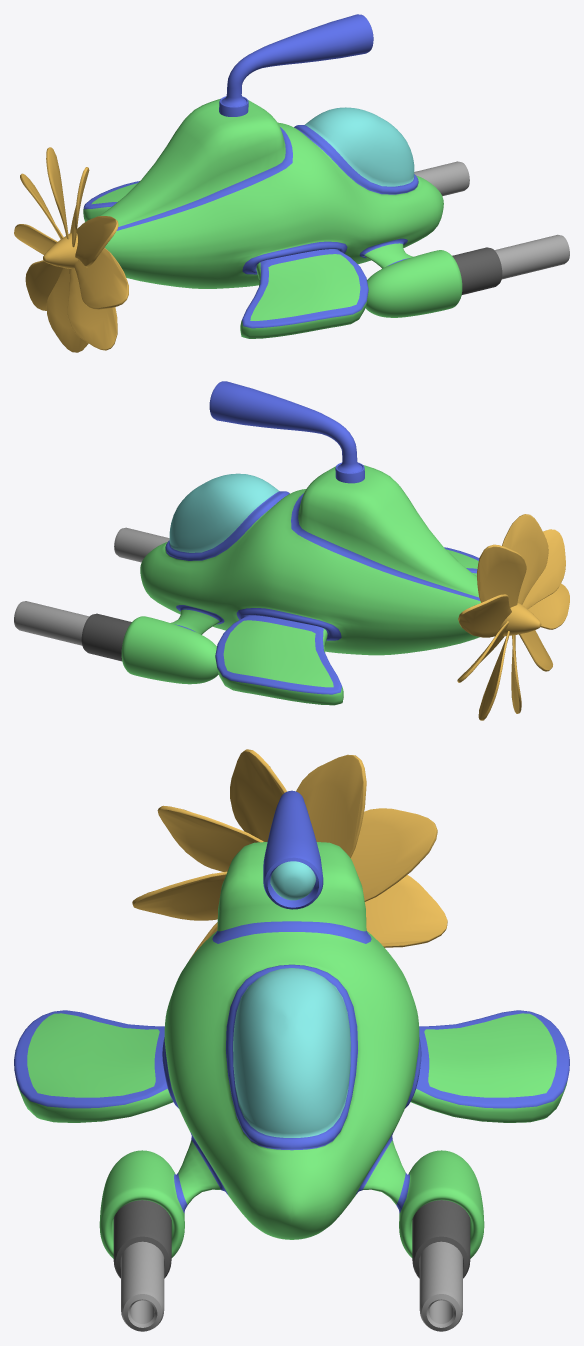
File: Scout.fbx
3 renders of one model, top to bottom at view 1: azimuth 30°, elevation 25°; view 2: azimuth 150°, elevation 25°; view 3: azimuth 270°, elevation 25°, orthographic. The views are drawn at different scales.
Visible parts, largest first — view 1: ShipBase, Sphere.006, Wing, Probe, CannonBarrell#2, CannonBarrell#1, Turbine; view 2: ShipBase, Sphere.006, Wing, Probe, CannonBarrell#2, CannonBarrell#1, Turbine; view 3: ShipBase, Wing, Sphere.006, CannonBarrell#2, CannonBarrell#1, Probe.
Part boxes in pixels (x1,y1,x2,y2): ShipBase: (99, 98, 462, 317); Sphere.006: (14, 147, 128, 352); Wing: (83, 181, 368, 338); Probe: (219, 14, 373, 116); CannonBarrell#2: (414, 161, 569, 279); CannonBarrell#1: (452, 247, 502, 294); Turbine: (43, 233, 78, 268); ShipBase: (121, 465, 480, 684); Sphere.006: (457, 514, 569, 720); Wing: (215, 547, 479, 705); Probe: (209, 381, 364, 483); CannonBarrell#2: (14, 527, 169, 645); CannonBarrell#1: (81, 613, 131, 661); Turbine: (499, 603, 541, 636); ShipBase: (99, 842, 484, 1258); Wing: (14, 1010, 569, 1122); Sphere.006: (132, 749, 447, 959); CannonBarrell#2: (121, 1241, 462, 1331); CannonBarrell#1: (113, 1200, 470, 1278); Probe: (263, 790, 323, 909).
Size of the model in its own units: 280 by 149 by 192.
